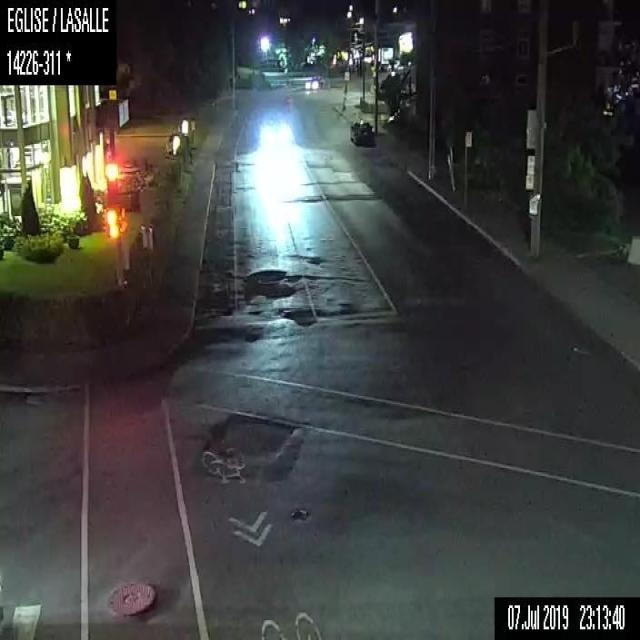vehicle: (258, 109, 292, 148), (348, 120, 376, 144), (304, 76, 326, 89)
